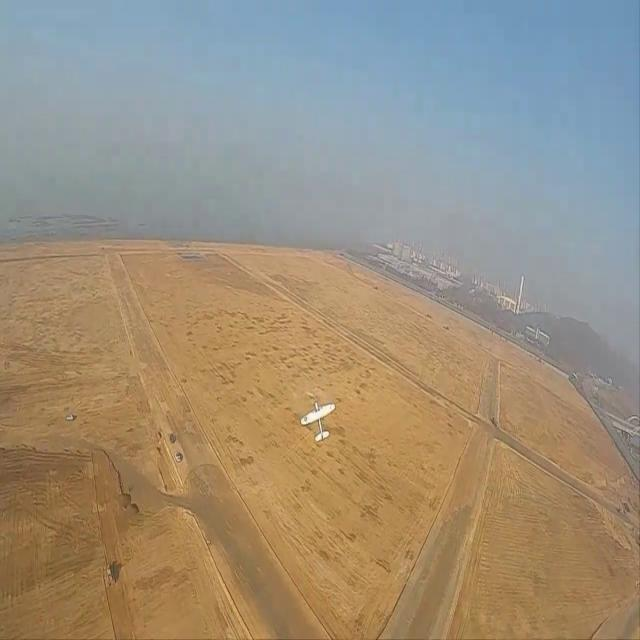iha: (299, 399, 336, 442)
